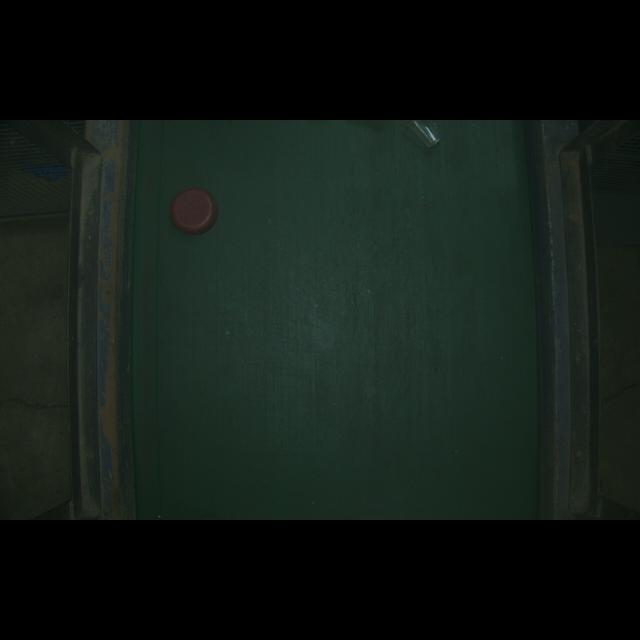mix rigid: (165, 180, 229, 250), (401, 115, 442, 151)
